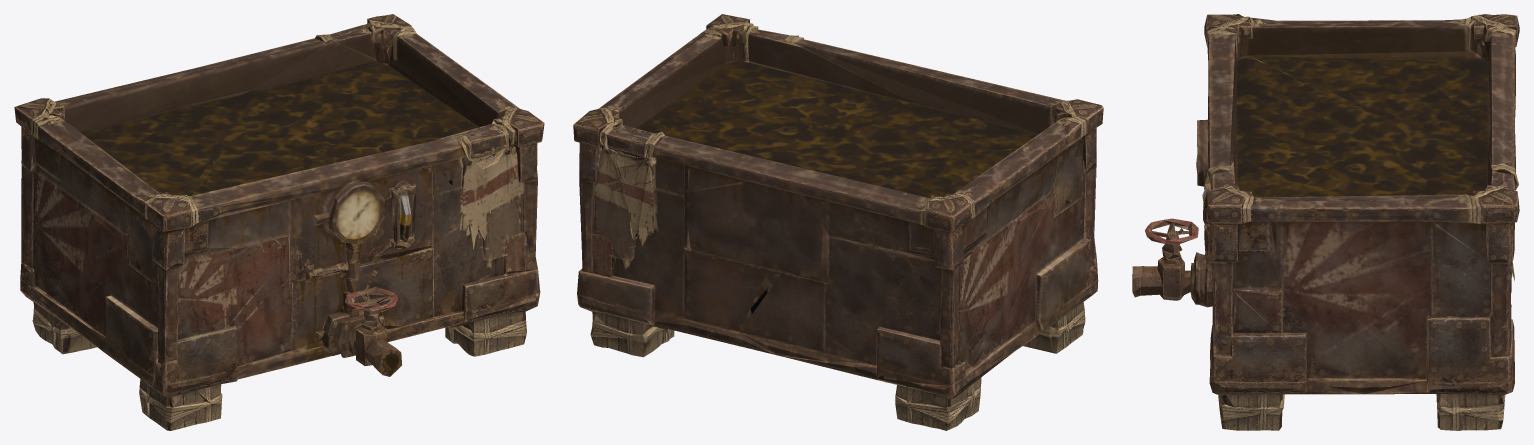
File: oil-bath.glb
3 renders of one model, left to right at view 1: azimuth 30°, elevation 25°; view 2: azimuth 150°, elevation 25°; view 3: azimuth 270°, elevation 25°, orthographic. The views are drawn at different scales.
Parts seen in each view (by area): view 1: output_unwrapped; view 2: output_unwrapped; view 3: output_unwrapped.
Part boxes in pixels (<box>): output_unwrapped: <box>14,14,544,430</box>; output_unwrapped: <box>573,14,1103,430</box>; output_unwrapped: <box>1132,14,1519,430</box>.
Size of the model in its own units: 1.9 by 1.09 by 1.62.
Materials: 1 (1 with a texture image).
